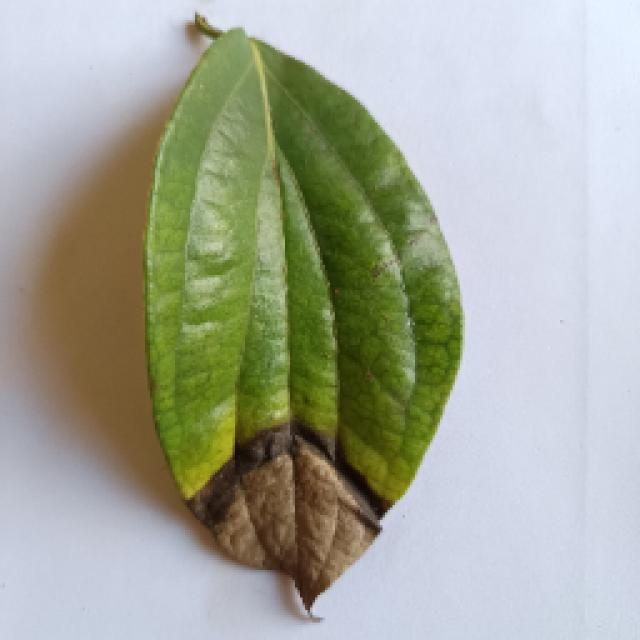footrot: (142, 20, 460, 612)
